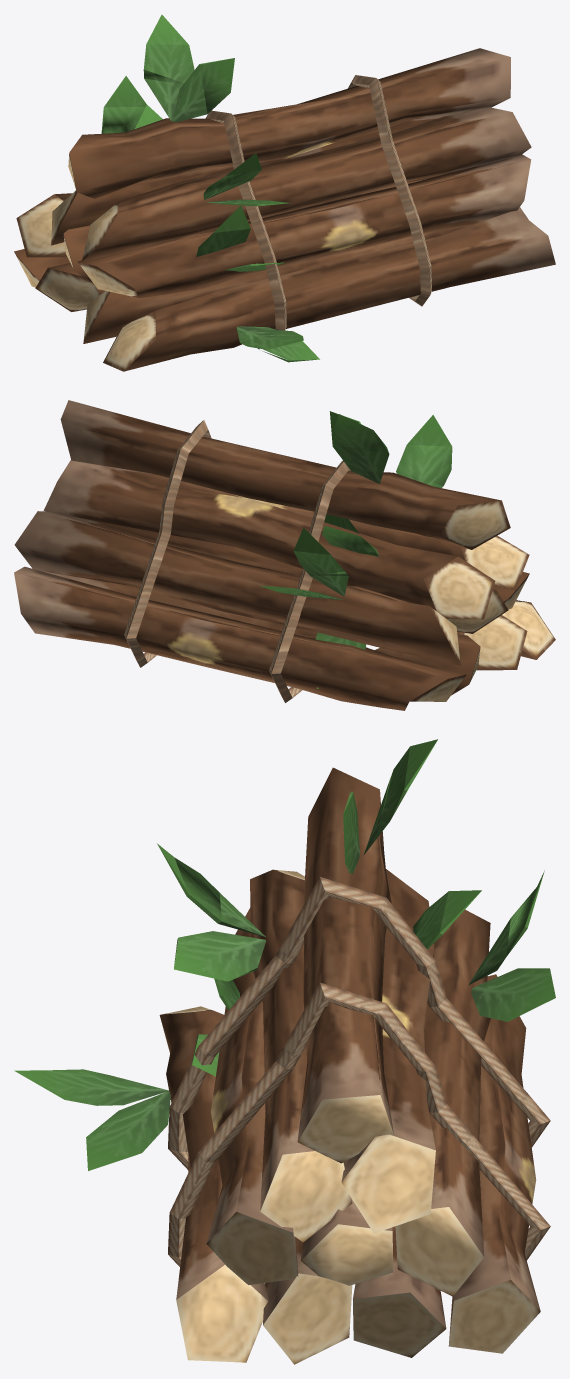
File: stack_of_tree_branches.fbx
3 renders of one model, top to bottom at view 1: azimuth 30°, elevation 25°; view 2: azimuth 150°, elevation 25°; view 3: azimuth 270°, elevation 25°, orthographic. The views are drawn at different scales.
Visible parts, largest first — view 1: TreeBranchStack; view 2: TreeBranchStack; view 3: TreeBranchStack.
Boxes of the visible parts, bbox=[...] form: TreeBranchStack: bbox=[14, 14, 555, 371]; TreeBranchStack: bbox=[14, 400, 555, 710]; TreeBranchStack: bbox=[14, 739, 555, 1364].
Bounding box in the file's own units: 0.4543 × 0.277 × 0.3256.
